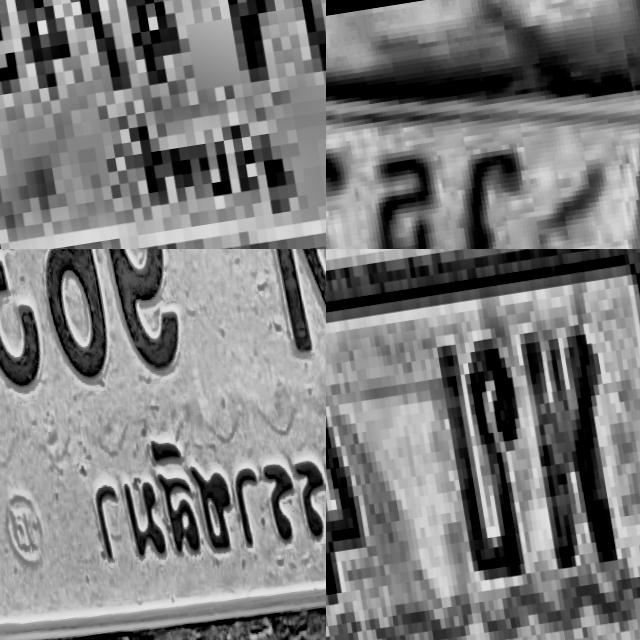license-plate: (0, 249, 326, 640), (326, 249, 640, 640), (0, 0, 326, 249), (326, 13, 640, 249)
